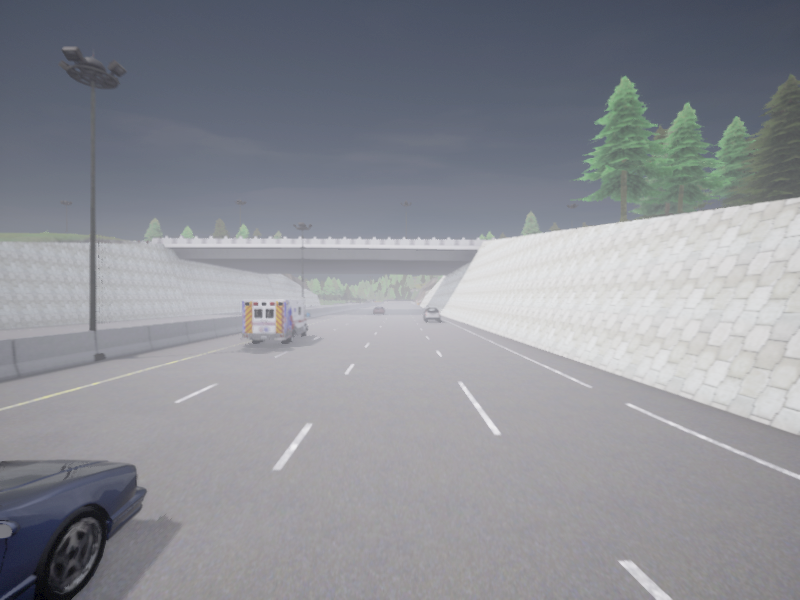vehicle: (0, 460, 146, 599), (241, 300, 309, 343), (423, 307, 440, 321), (373, 306, 385, 313)
